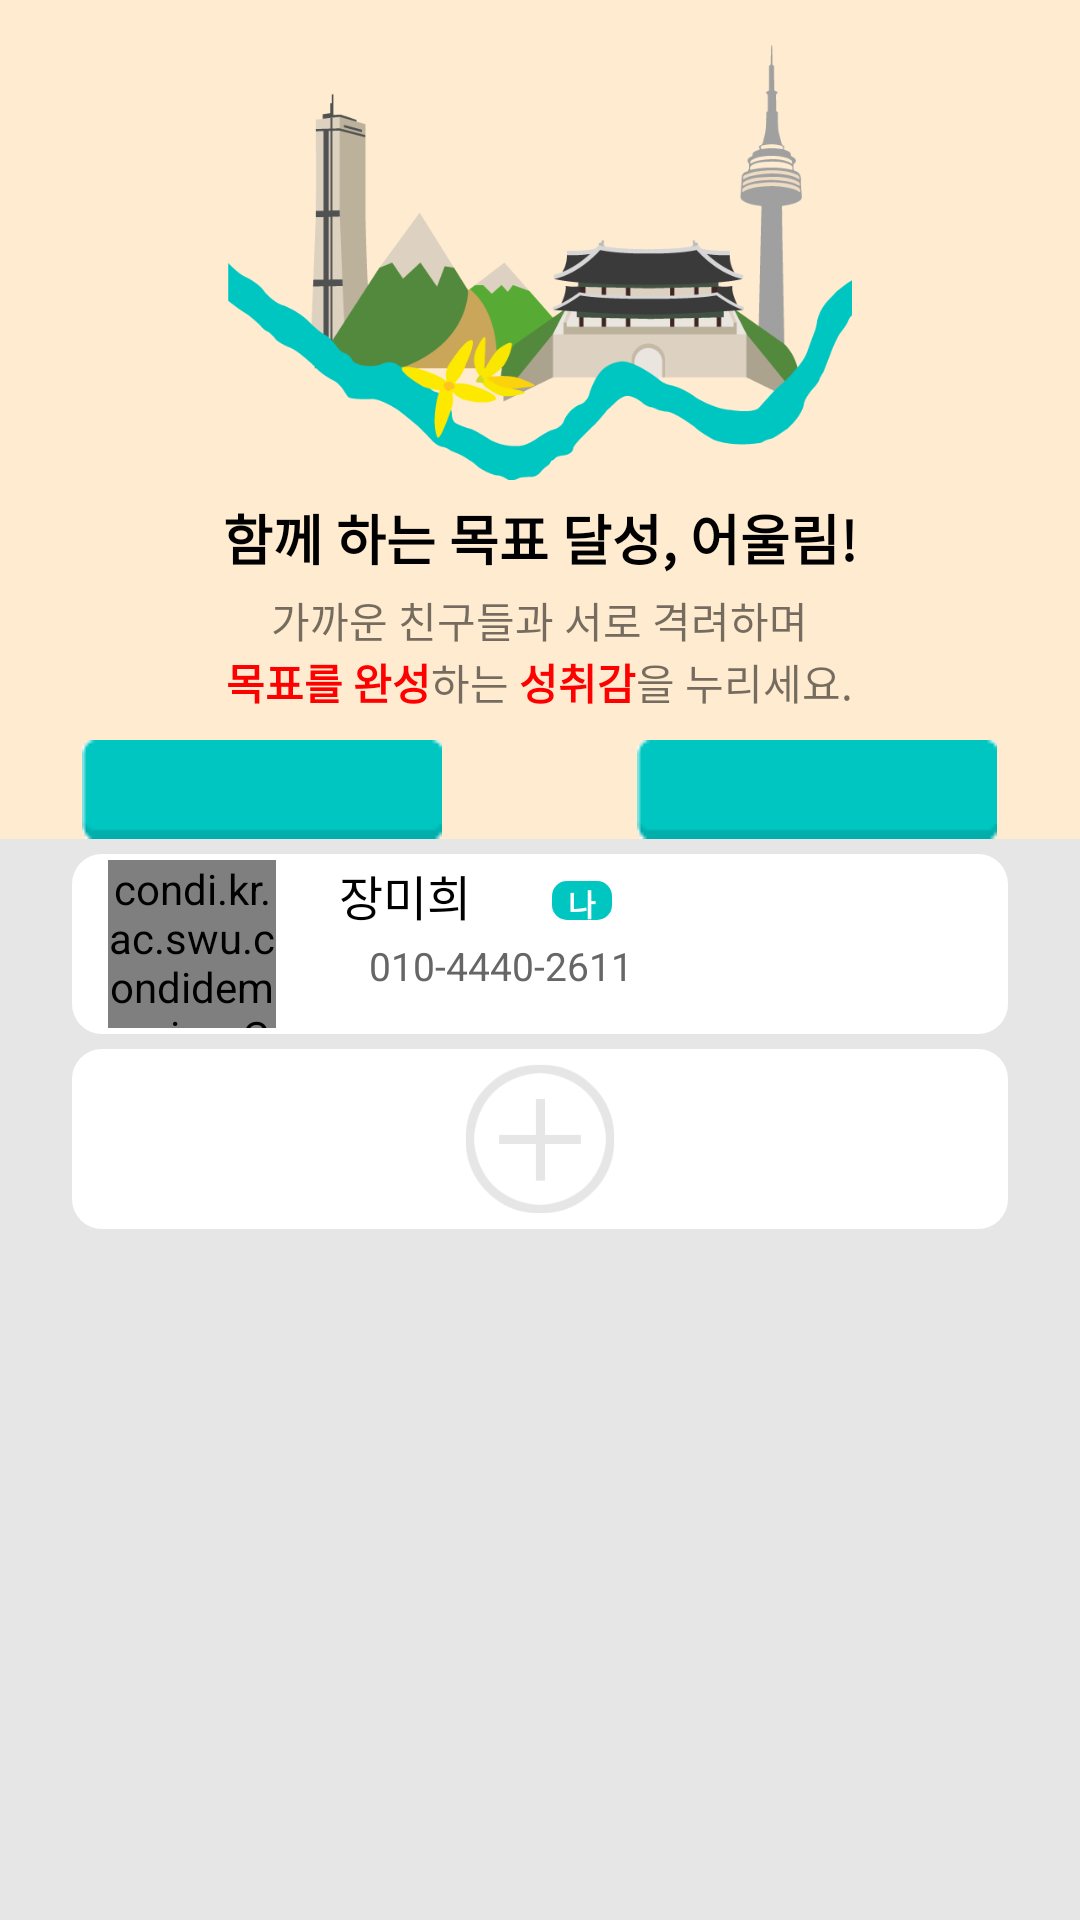

Named icons in this screenshot (1080px×1920px) and their bounding boxes, Rect(x1, y1, x2, y2):
add item: Rect(466, 1065, 614, 1213)
